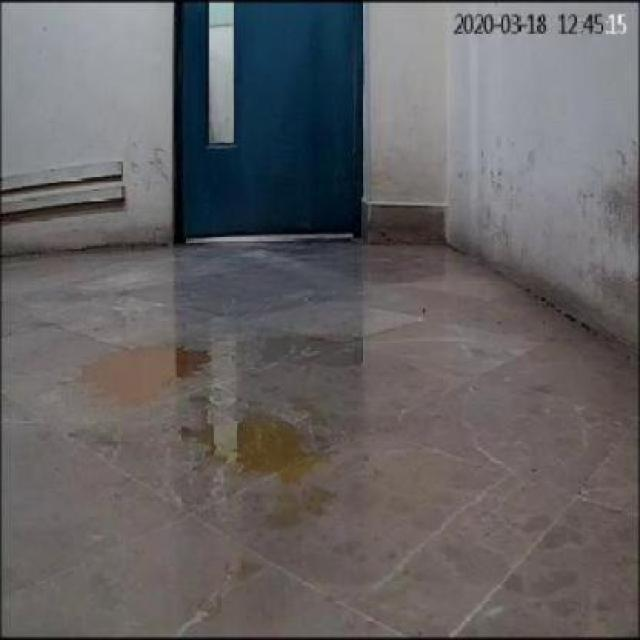spillage: (184, 418, 330, 482), (74, 347, 208, 407)
